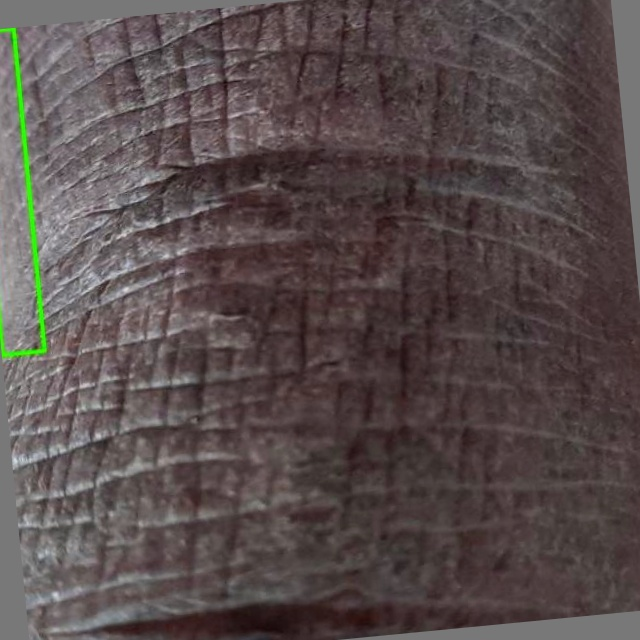Eczema: (0, 28, 44, 355)
